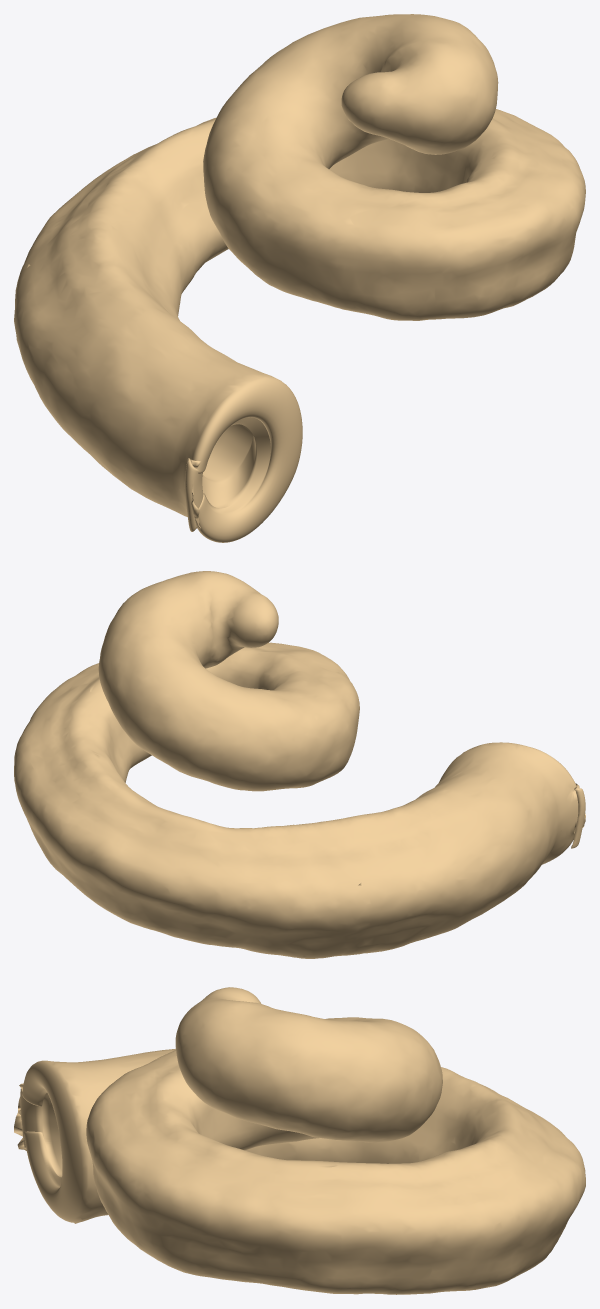
File: scaphokogia_cochlea.glb
3 views of the same model, one above another, from view 1: azimuth 30°, elevation 25°; view 2: azimuth 150°, elevation 25°; view 3: azimuth 270°, elevation 25° (orthographic). The views are drawn at different scales.
Parts seen in each view (by area): view 1: Scaphokogia_cochlearis_Cochlea_Hollow; view 2: Scaphokogia_cochlearis_Cochlea_Hollow; view 3: Scaphokogia_cochlearis_Cochlea_Hollow.
Part boxes in pixels (x1,y1,x2,y2): Scaphokogia_cochlearis_Cochlea_Hollow: [14, 14, 585, 542]; Scaphokogia_cochlearis_Cochlea_Hollow: [14, 571, 585, 958]; Scaphokogia_cochlearis_Cochlea_Hollow: [14, 987, 585, 1294].
Bounding box in the file's own units: 8.83 × 5.72 × 8.57.
